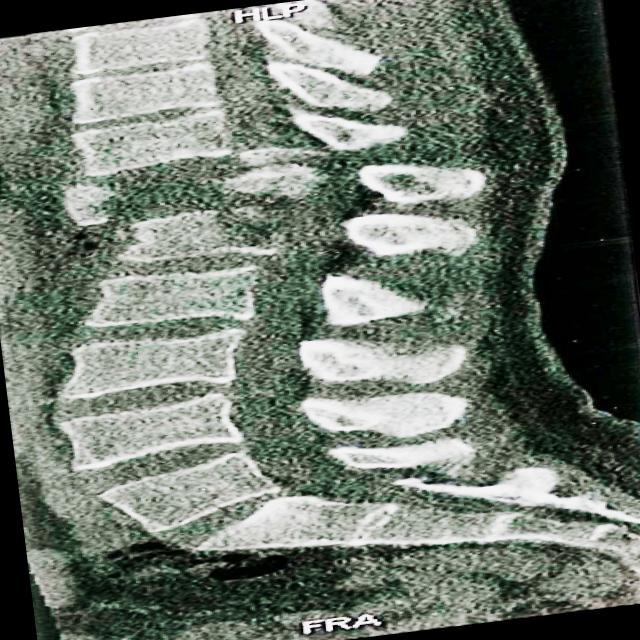Compression-Crush Fracutre: (62, 178, 298, 258)
